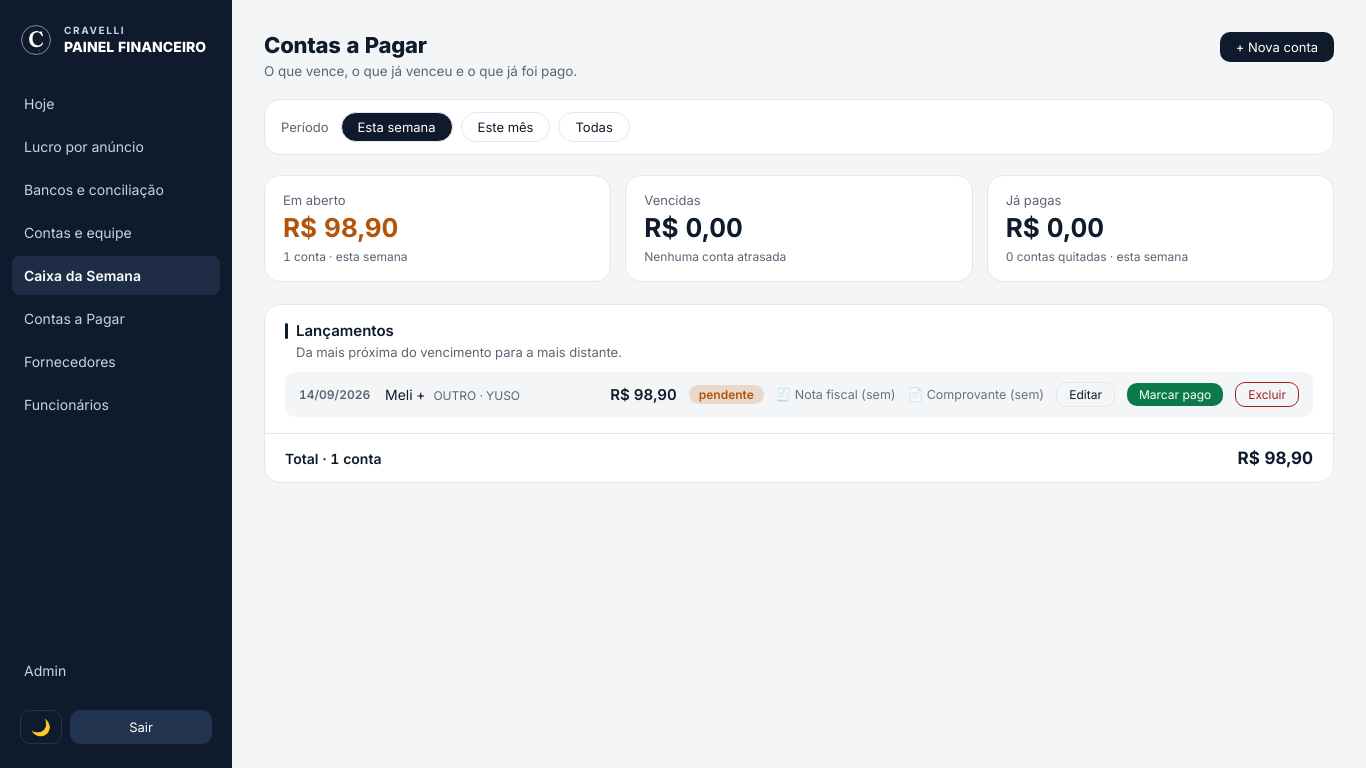
Test case: Contas a Pagar — valor no formato brasileiro › valor inválido mostra aviso e não envia nada
Step 1. Click the button "Editar" → click(1086, 395), box [1056,382,1115,407]
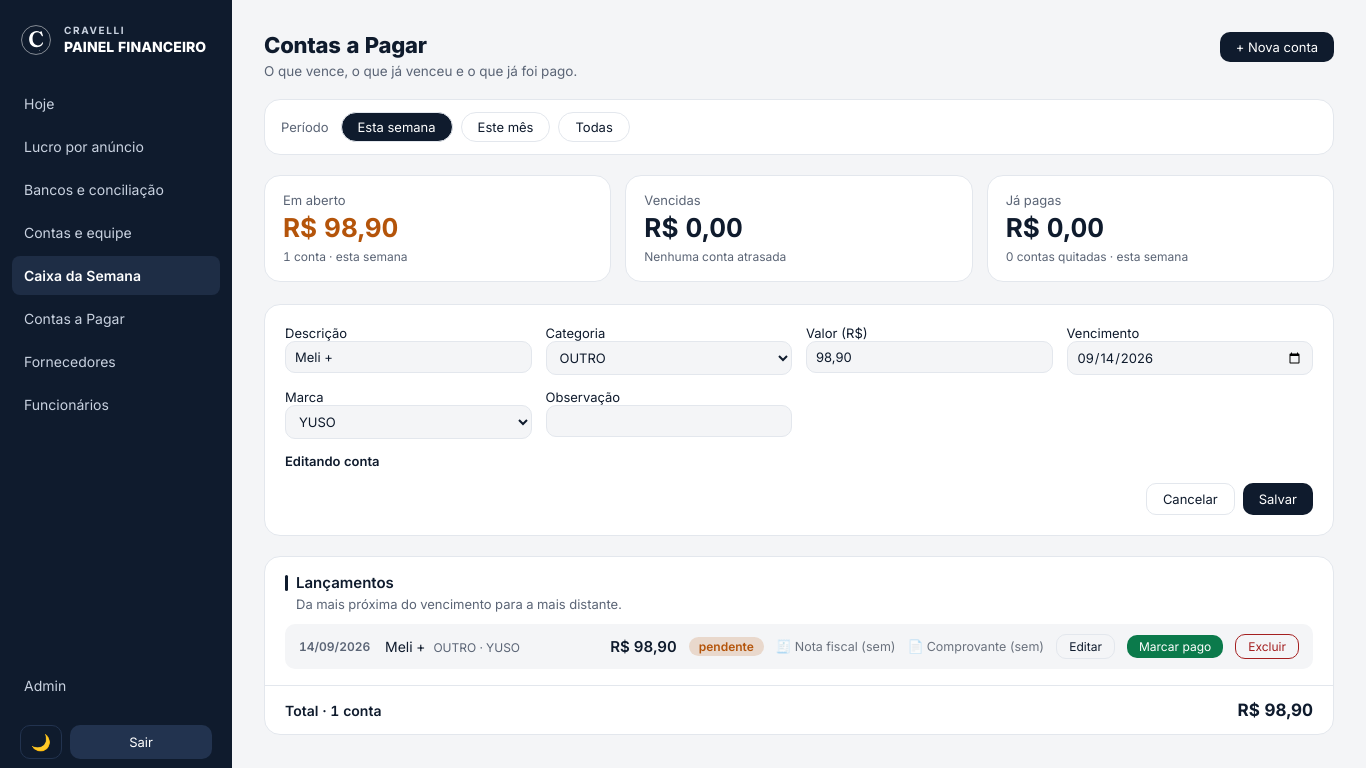
Step 2. Replace the text in the field showing "98,90" with "abc" → (929, 357), box [806,341,1052,373]
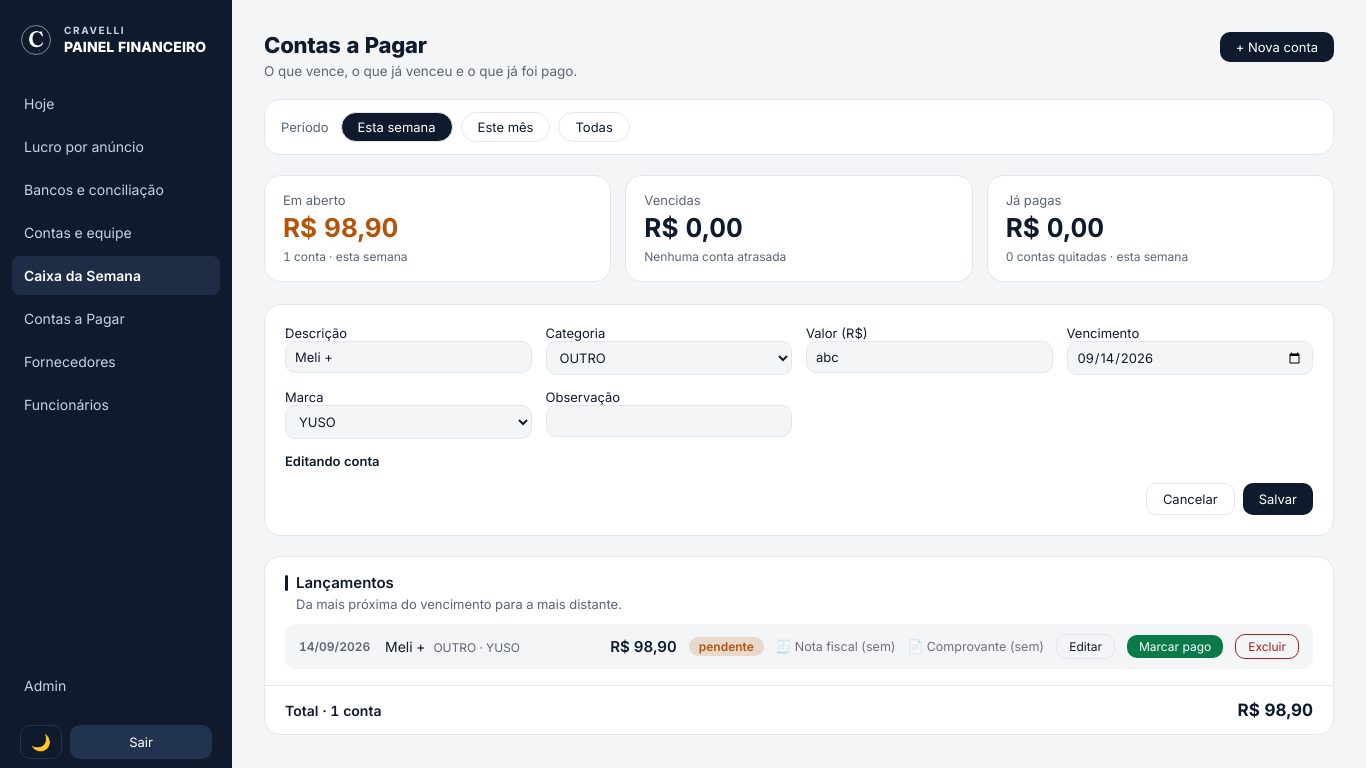
Step 3. Click the button "Salvar" → click(1278, 499), box [1243,483,1313,515]
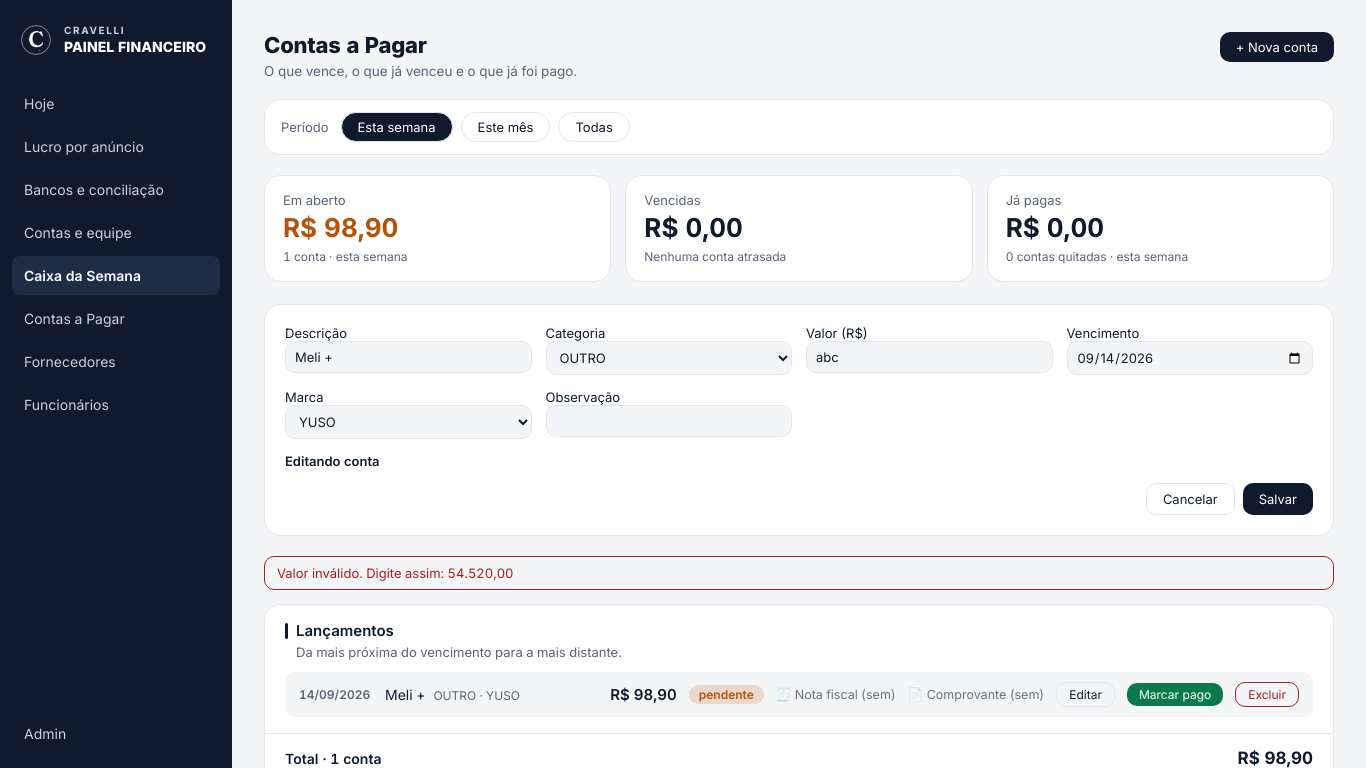
Expected: the text "Valor inválido. Digite assim: 54.520,00" is shown, [264,556,1334,590]
